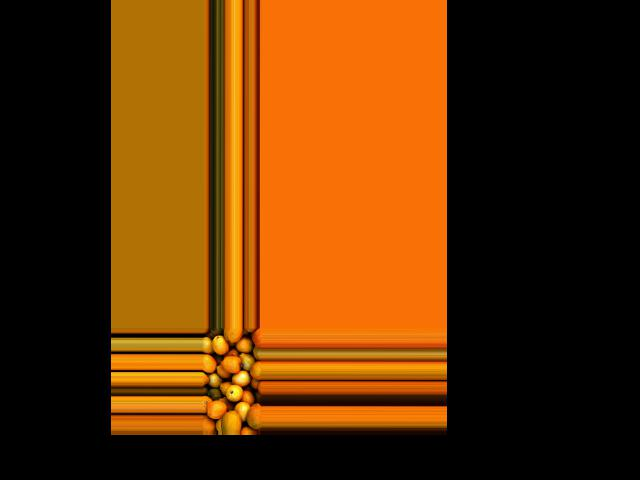lemon: (202, 353, 218, 374)
